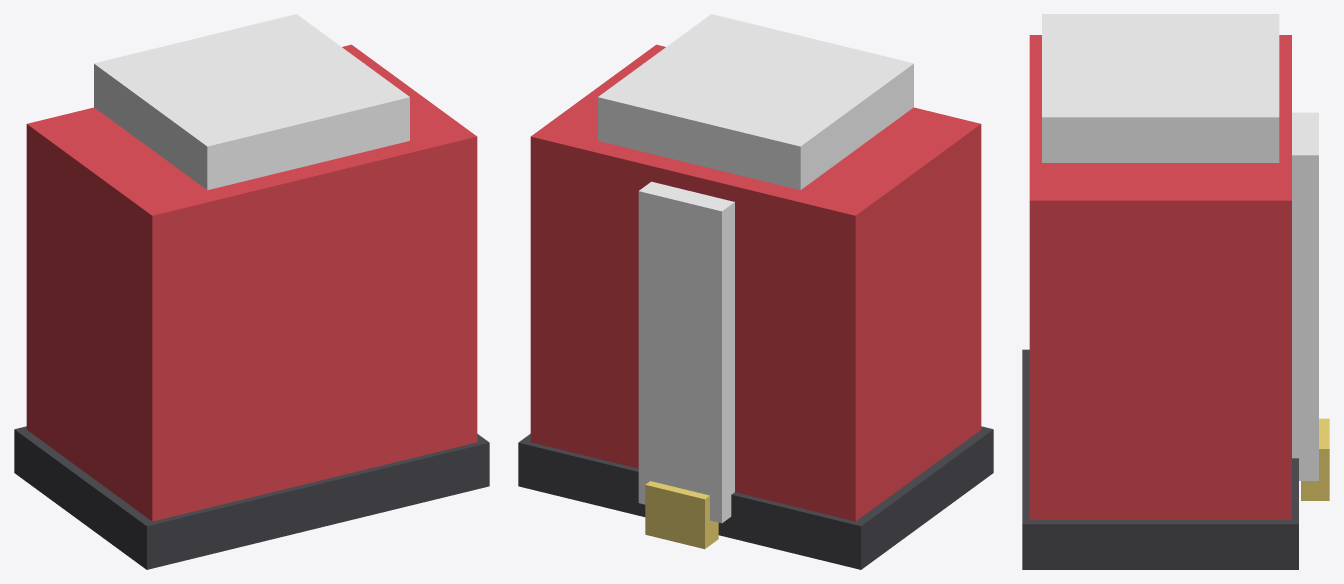
Rendered from noel_tronco.glb.
The picture shows the model from 3 angles, left to right: view 1: azimuth 30°, elevation 25°; view 2: azimuth 150°, elevation 25°; view 3: azimuth 270°, elevation 25°; orthographic projection. The views are drawn at different scales.
Parts seen in each view (by area): view 1: noel_tronco; view 2: noel_tronco; view 3: noel_tronco.
Boxes of the visible parts, box(x1,y1,x2,y2) form: noel_tronco: box(14, 14, 489, 569); noel_tronco: box(518, 14, 993, 569); noel_tronco: box(1022, 14, 1329, 569).
Size of the model in its own units: 0.575 by 0.645 by 0.4275.
